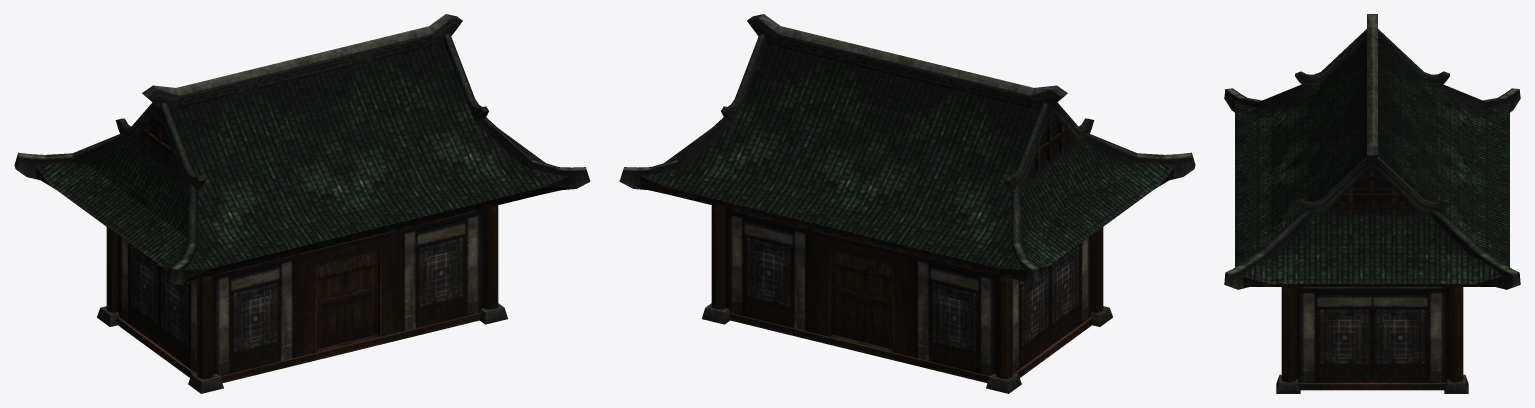
File: c1-016-house9_01.glb
3 renders of one model, left to right at view 1: azimuth 30°, elevation 25°; view 2: azimuth 150°, elevation 25°; view 3: azimuth 270°, elevation 25°, orthographic. The views are drawn at different scales.
Visible parts, largest first — view 1: c1-016-house9; view 2: c1-016-house9; view 3: c1-016-house9.
Boxes of the visible parts, x1,y1,x2,y2 form: c1-016-house9: (14,14,590,393); c1-016-house9: (619,14,1195,393); c1-016-house9: (1224,14,1520,393).
Bounding box in the file's own units: 11.71 × 7.08 × 7.76.
Materials: 1 (1 with a texture image).
